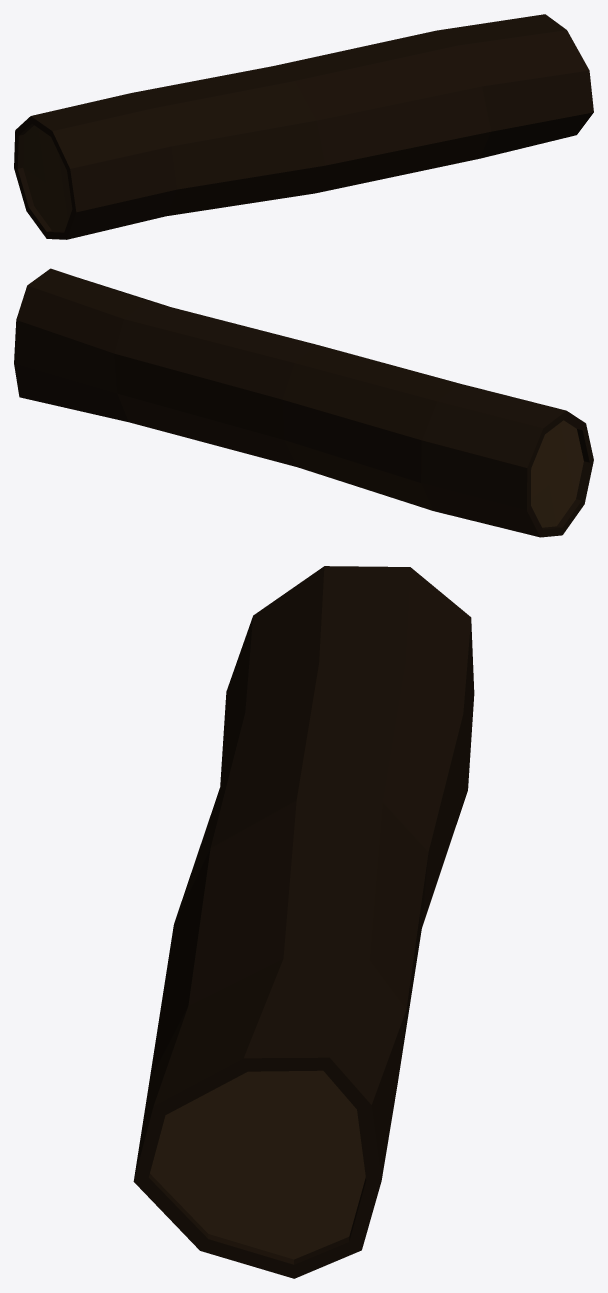
The model's file is Log05_FBX.fbx.
The picture shows the model from 3 angles, top to bottom: view 1: azimuth 30°, elevation 25°; view 2: azimuth 150°, elevation 25°; view 3: azimuth 270°, elevation 25°; orthographic projection. The views are drawn at different scales.
Parts seen in each view (by area): view 1: LOG 5; view 2: LOG 5; view 3: LOG 5.
Part boxes in pixels (bbox=[...]): LOG 5: bbox=[14, 14, 593, 239]; LOG 5: bbox=[14, 268, 593, 537]; LOG 5: bbox=[133, 566, 474, 1278].
Bounding box in the file's own units: 98.82 × 22.02 × 29.42.
